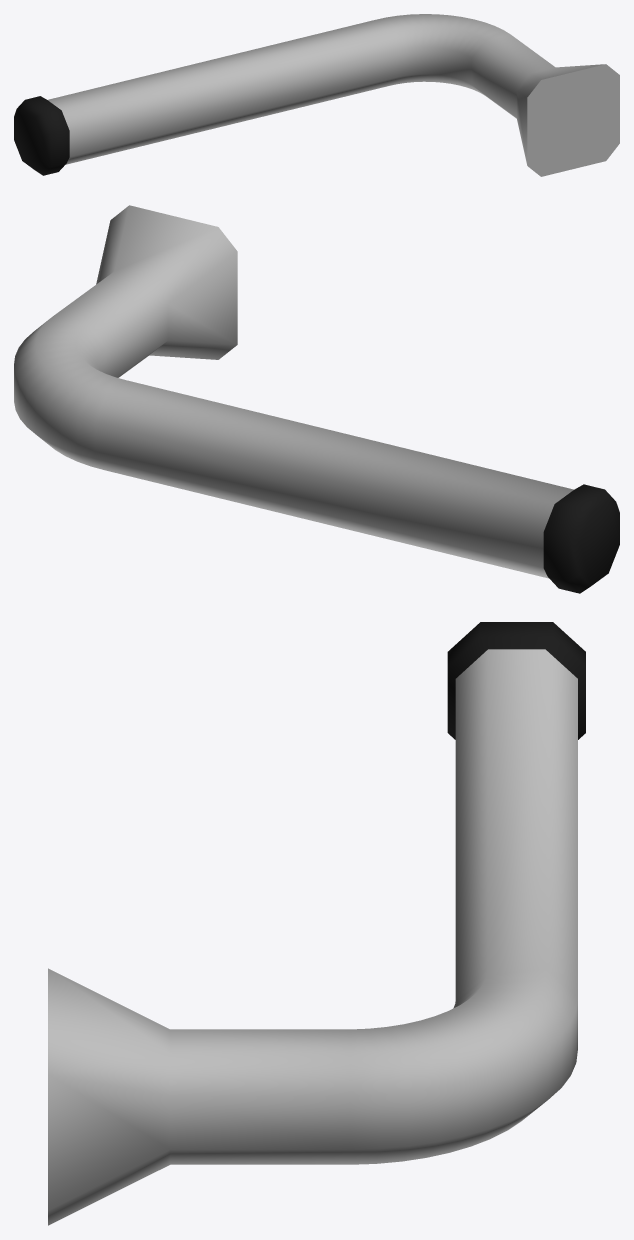
File: toilet-paperhandler.glb
3 renders of one model, top to bottom at view 1: azimuth 30°, elevation 25°; view 2: azimuth 150°, elevation 25°; view 3: azimuth 270°, elevation 25°, orthographic. The views are drawn at different scales.
Visible parts, largest first — view 1: toiletpaperhandler; view 2: toiletpaperhandler; view 3: toiletpaperhandler.
Part boxes in pixels (x1,y1,x2,y2): toiletpaperhandler: (14, 14, 619, 176); toiletpaperhandler: (14, 205, 619, 593); toiletpaperhandler: (48, 622, 585, 1225).
Size of the model in its own units: 0.2672 by 0.0522 by 0.1313.
2 materials, 2 textured.
